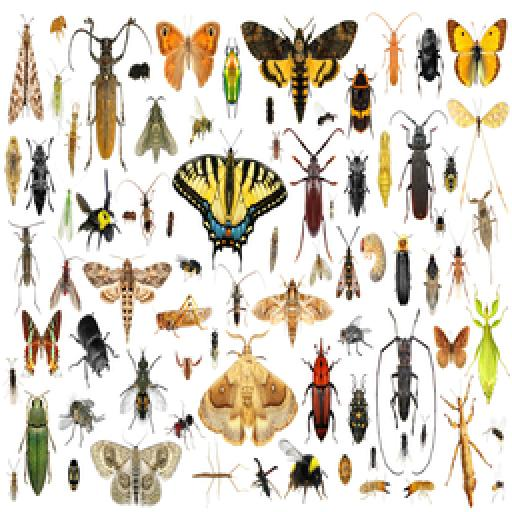insects: (240, 18, 358, 128), (174, 150, 286, 260), (68, 16, 152, 162), (200, 334, 298, 448), (376, 302, 438, 478), (444, 384, 498, 510), (88, 436, 184, 506), (284, 122, 338, 246), (460, 276, 508, 400), (62, 164, 132, 248), (252, 282, 330, 346), (154, 20, 220, 94), (396, 114, 440, 222), (82, 258, 172, 310), (300, 338, 342, 448), (444, 18, 508, 90), (18, 384, 58, 498), (6, 16, 42, 126), (68, 310, 116, 384), (30, 110, 60, 220), (110, 324, 160, 390), (16, 308, 62, 376), (58, 384, 104, 452), (10, 224, 44, 310), (136, 92, 176, 162), (340, 64, 378, 136), (442, 94, 510, 132), (52, 232, 86, 306), (110, 380, 160, 430), (154, 290, 208, 336), (426, 232, 462, 298), (342, 364, 370, 448), (2, 136, 28, 220), (412, 26, 444, 92), (284, 452, 328, 500), (388, 230, 414, 310), (472, 188, 502, 256), (330, 236, 360, 304), (382, 16, 408, 92), (46, 18, 74, 88), (432, 324, 470, 372), (346, 152, 370, 220), (222, 44, 244, 118), (358, 232, 388, 284), (372, 472, 424, 500), (250, 454, 282, 498), (224, 274, 250, 328), (152, 178, 178, 230), (202, 454, 232, 494), (174, 346, 202, 384), (116, 198, 140, 236), (336, 450, 356, 494), (66, 452, 84, 494), (172, 410, 196, 440), (128, 60, 152, 82)
